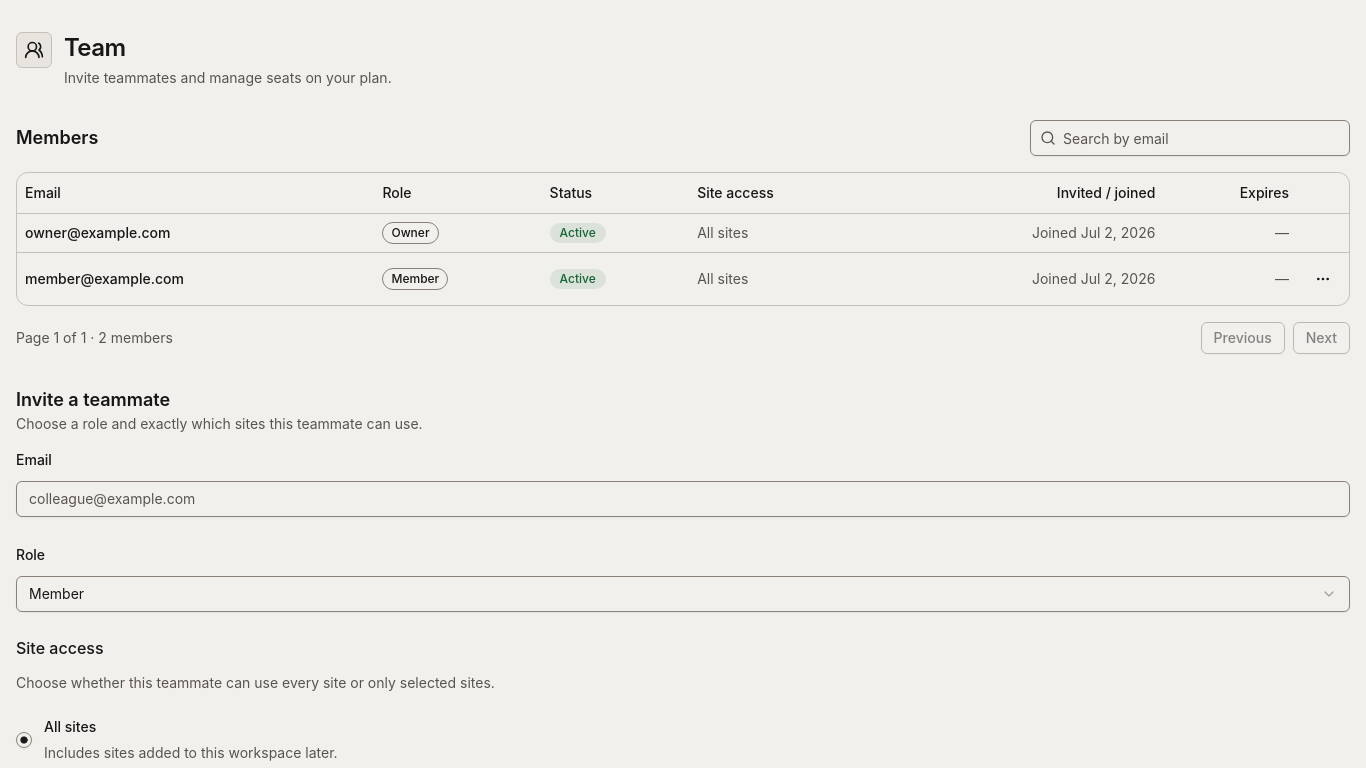
Test case: owner access editing › updates role and selected-site access as one server-validated command
Click the button with test id "member-actions-m-1" at (1323, 278), box 1305,260 -> 1341,296
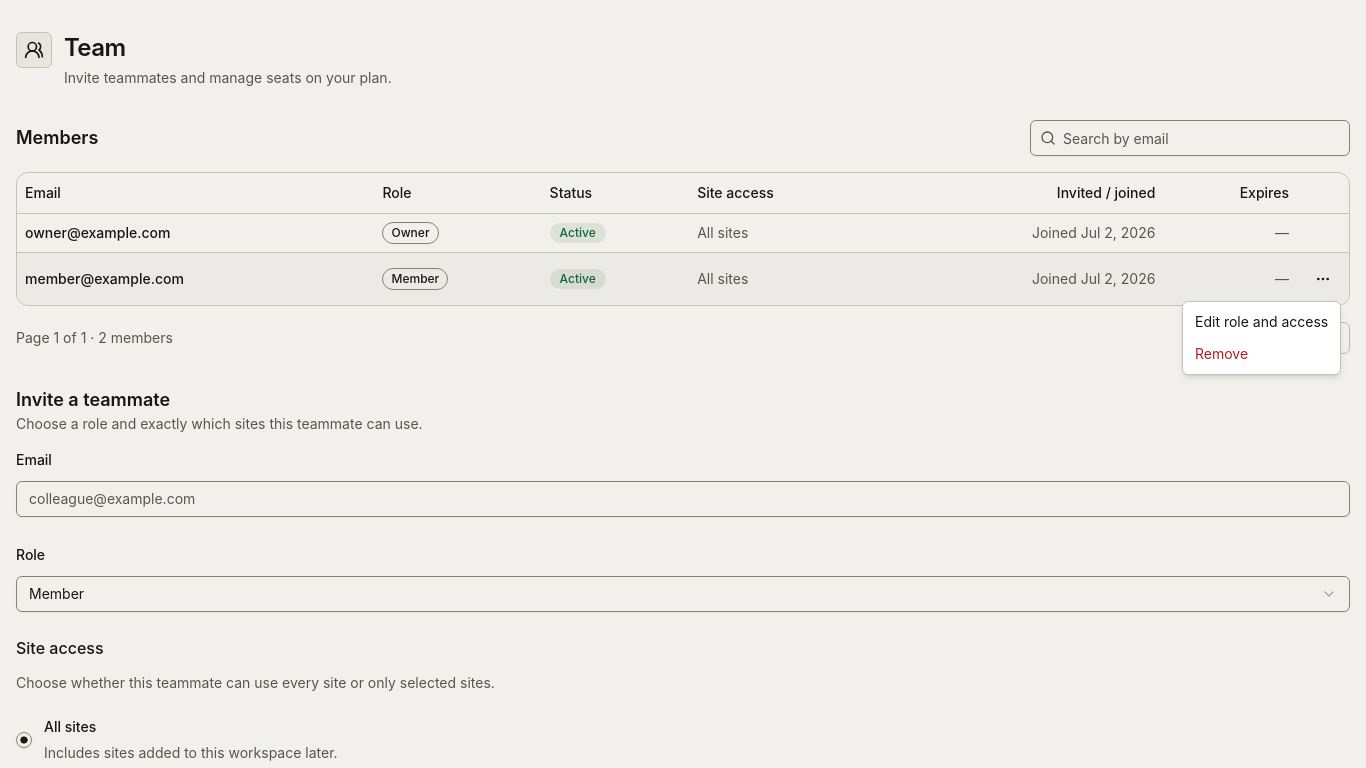
Click the menu item "Edit role and access" at (1262, 322), box 1195,313 -> 1328,330
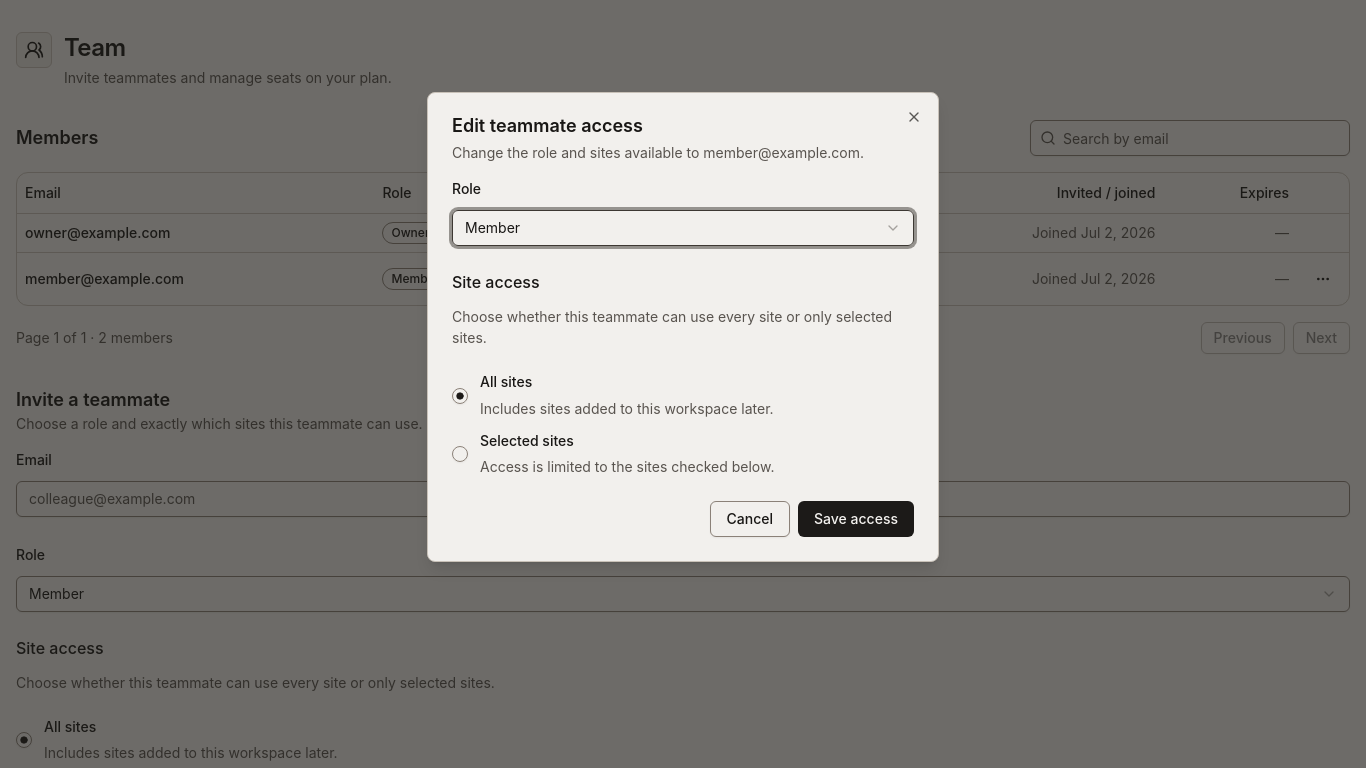
Click the dropdown named "Role" at (493, 228), box 452,210 -> 914,246
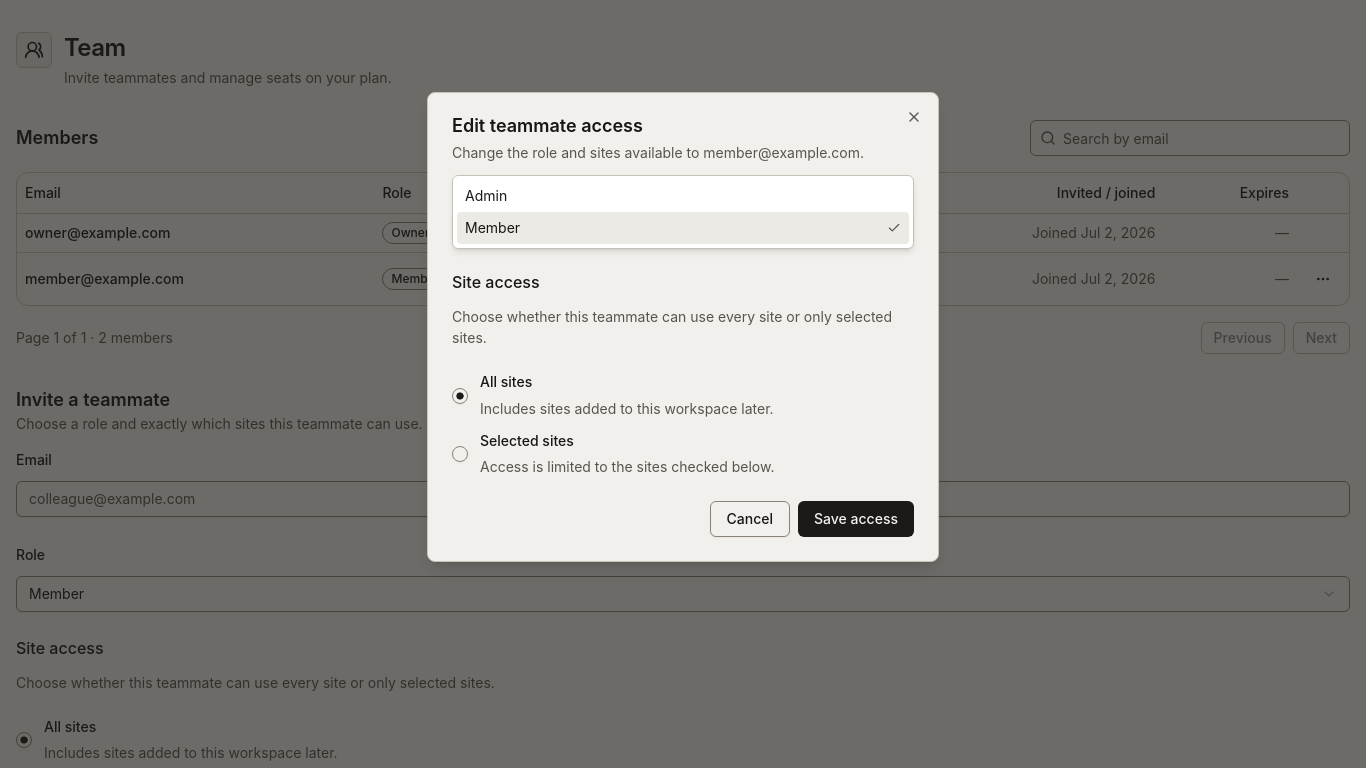
Click the option "Admin" at (486, 196), box 465,187 -> 507,204
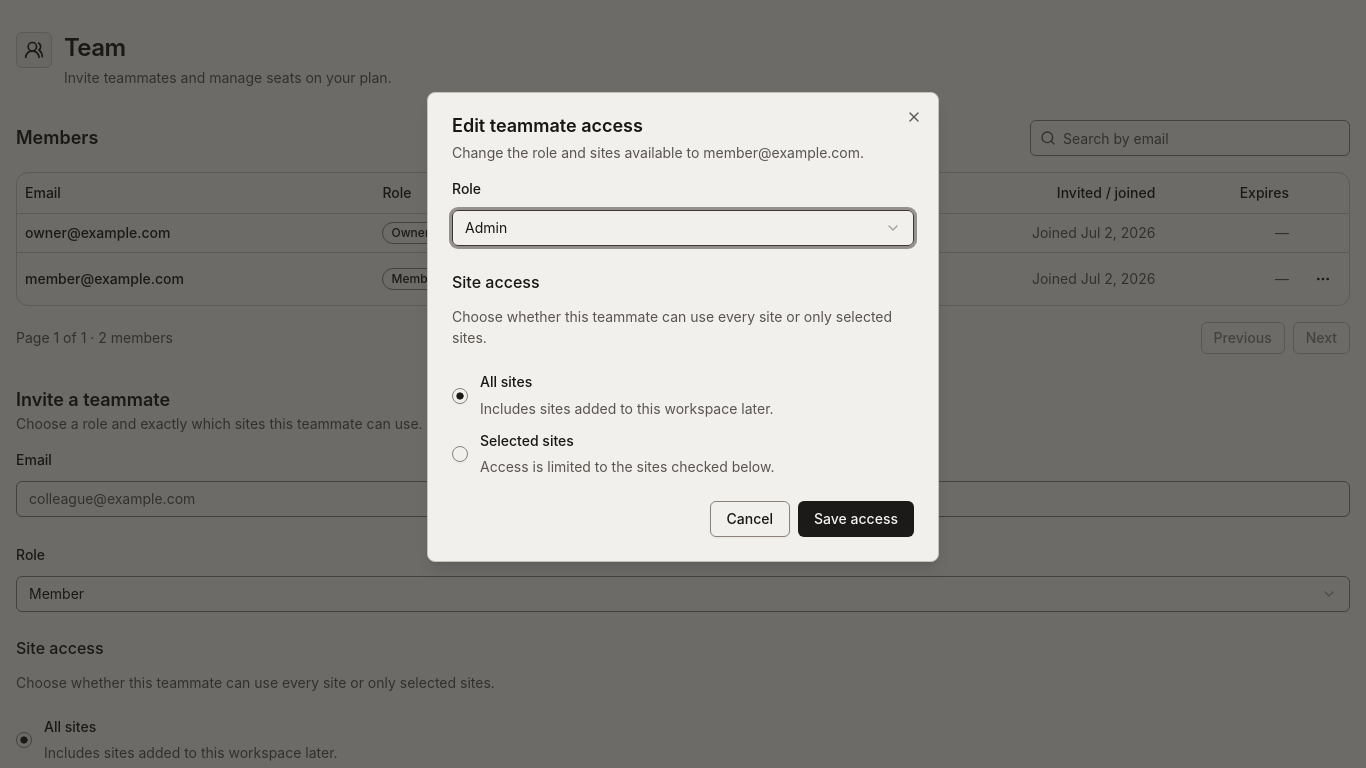
Expected: the 2nd radio button named "Selected sites" is enabled
Click the 2nd radio button named "Selected sites" at (460, 454), box 452,446 -> 468,462
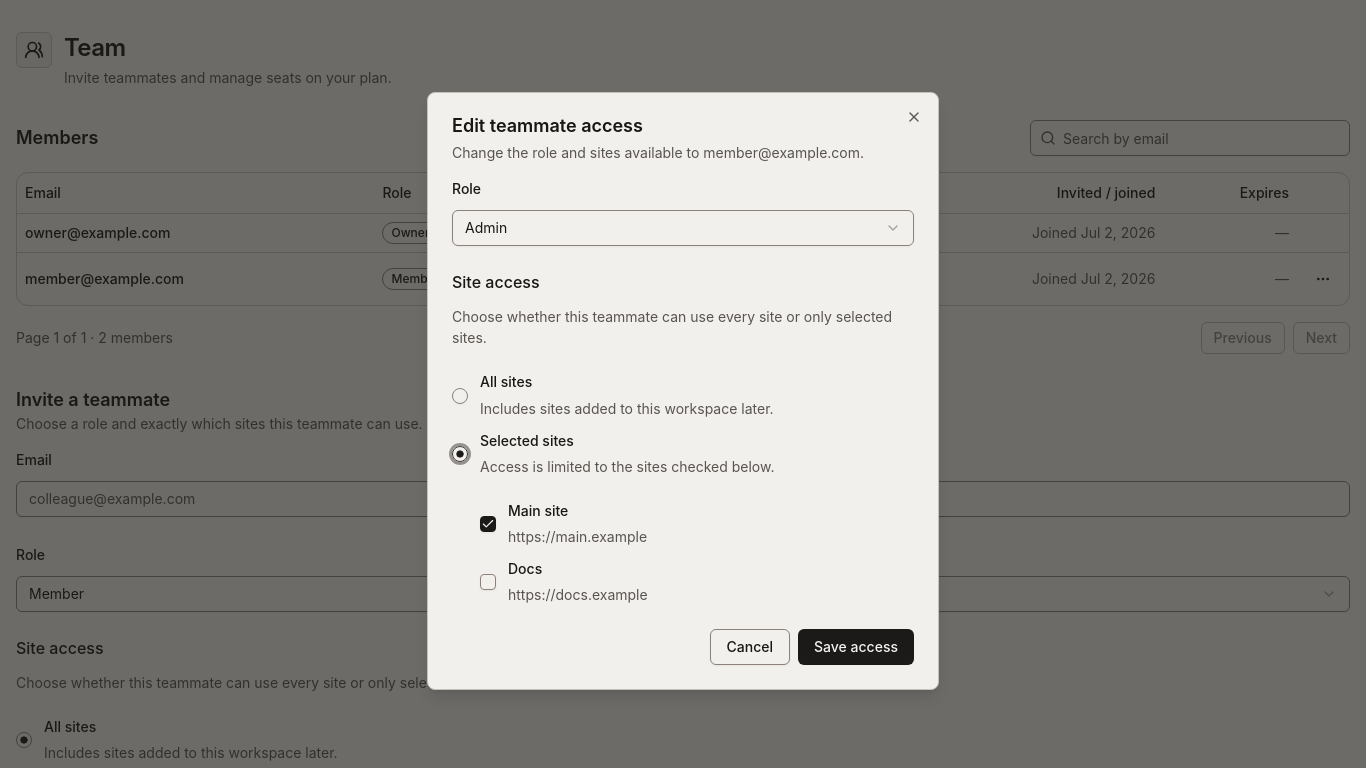
Click the button "Save access" at (856, 647), box 798,629 -> 914,665
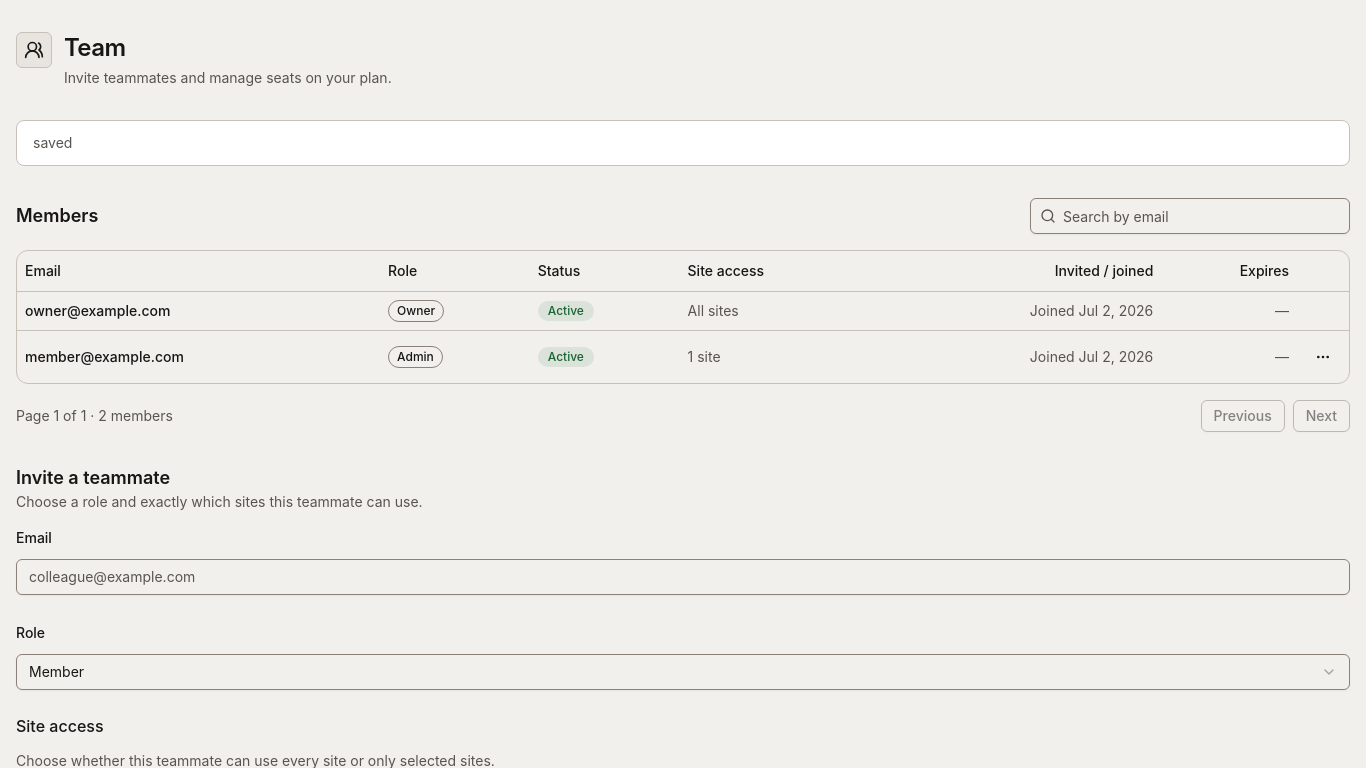
Expected: the dialog is gone
